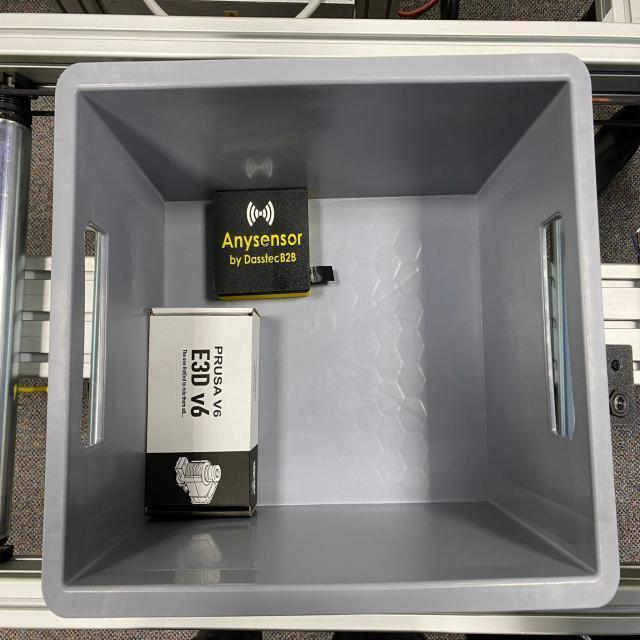box: (146, 306, 260, 516), (210, 186, 311, 295)
